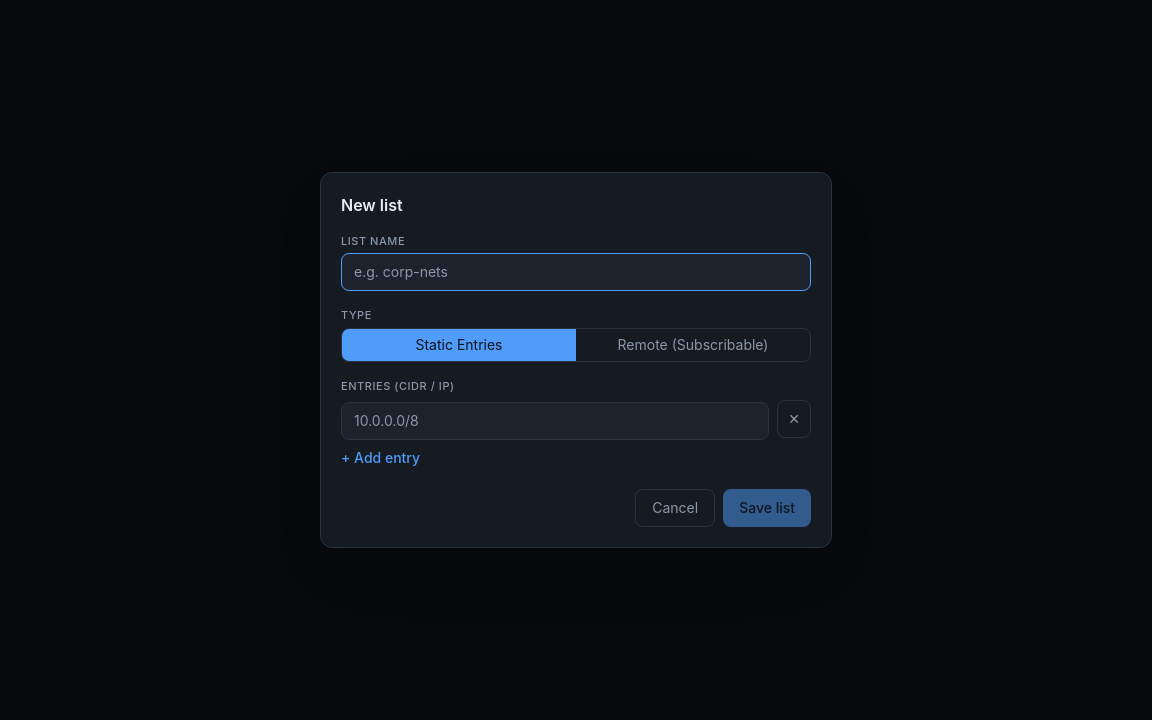
Test case: ListEditor › requires an https source for remote lists
Type "ads" into the field with placeholder "e.g. corp-nets".
click(576, 272); type("ads")  # box x1=341 y1=253 x2=811 y2=291
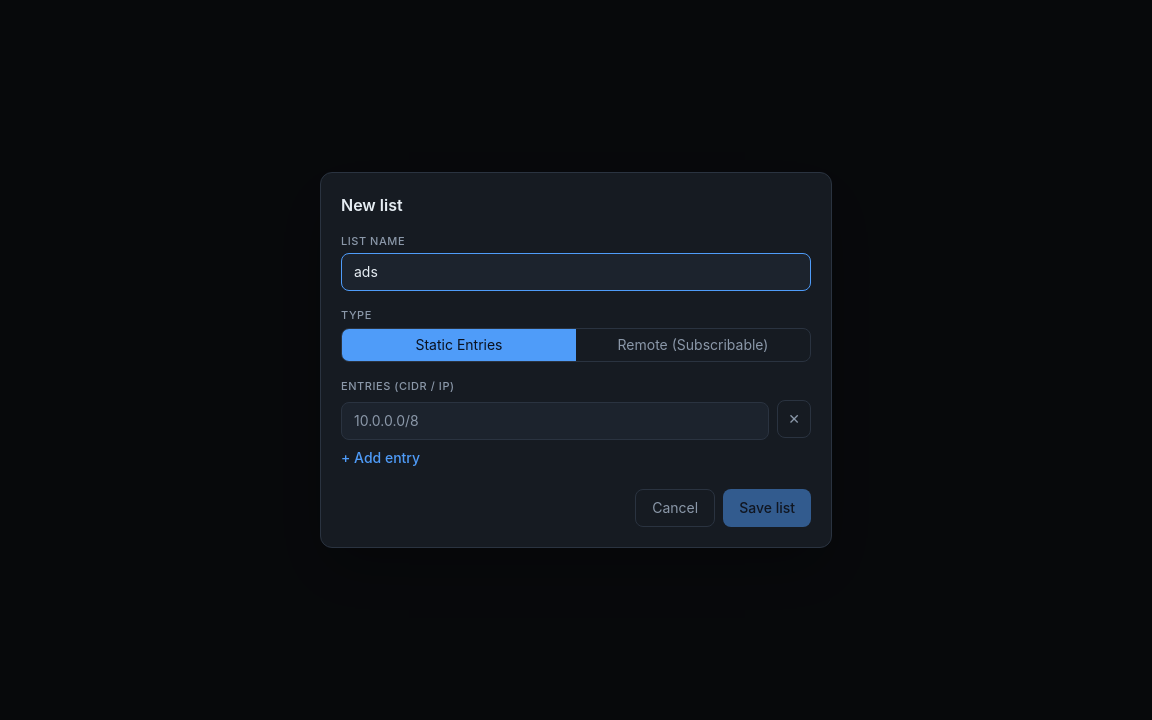
Click the button "Remote (subscribable)".
click(693, 345)  # box x1=576 y1=329 x2=810 y2=361
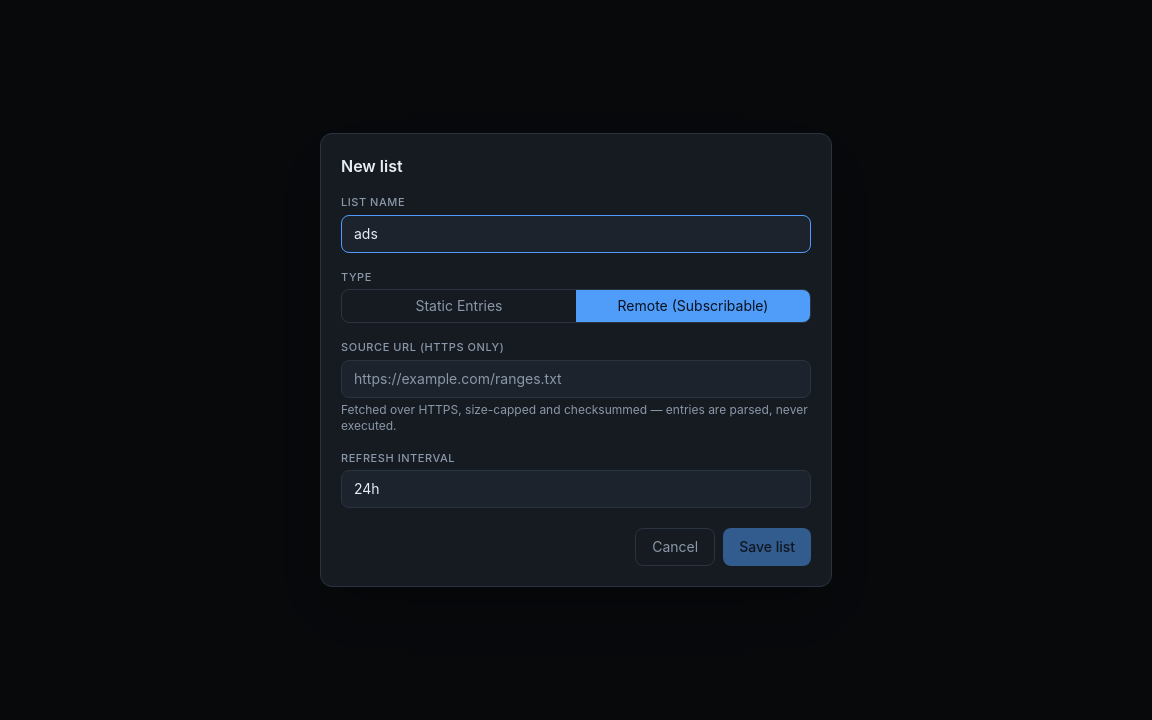
Type "http://insecure.example/x" into the field with placeholder "https://example.com/ranges.txt".
click(576, 378); type("http://insecure.example/x")  # box x1=341 y1=360 x2=811 y2=398
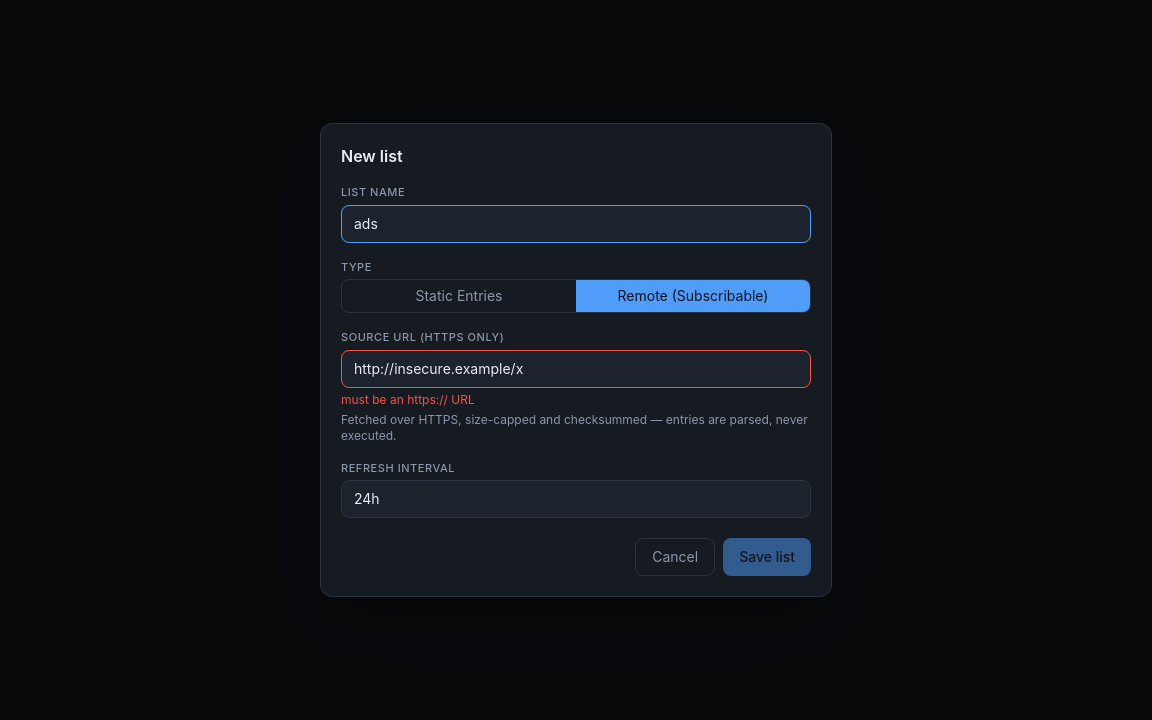
Check: the text "must be an https:// URL" is shown, box x1=341 y1=392 x2=475 y2=406
Replace the text in the field with placeholder "https://example.com/ranges.txt" below "Source URL (https only)" with "https://example.com/x" at (576, 368), box x1=341 y1=350 x2=811 y2=388
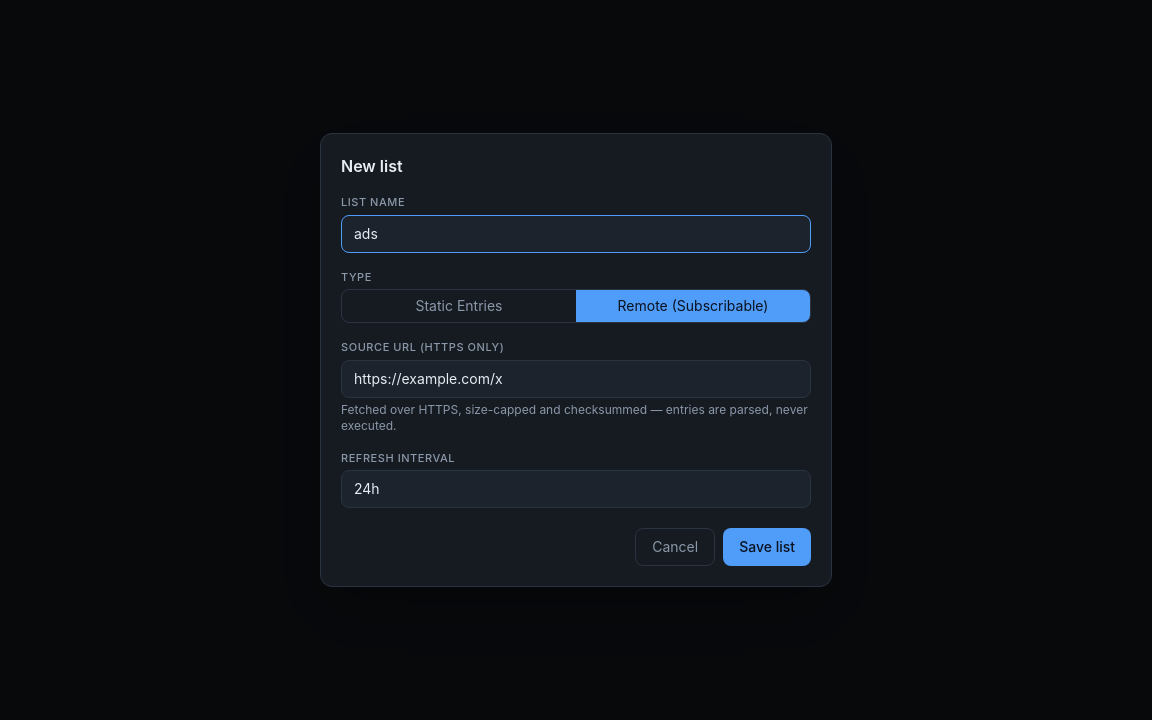
Check: the text "must be an https:// URL" is gone
